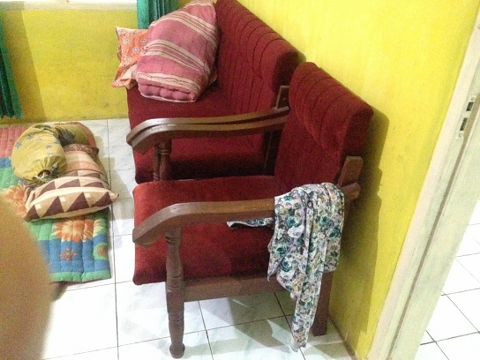kursi: (133, 62, 373, 360), (125, 1, 295, 179)
